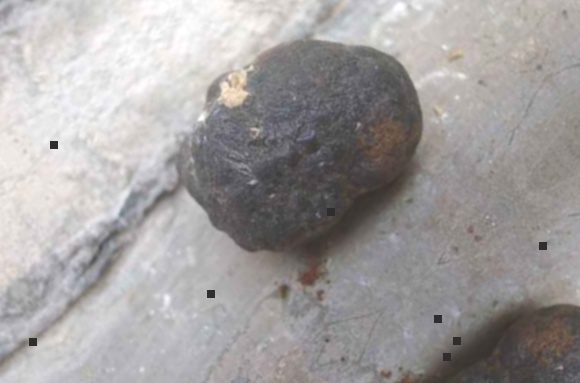halobolite: (138, 0, 467, 295)
